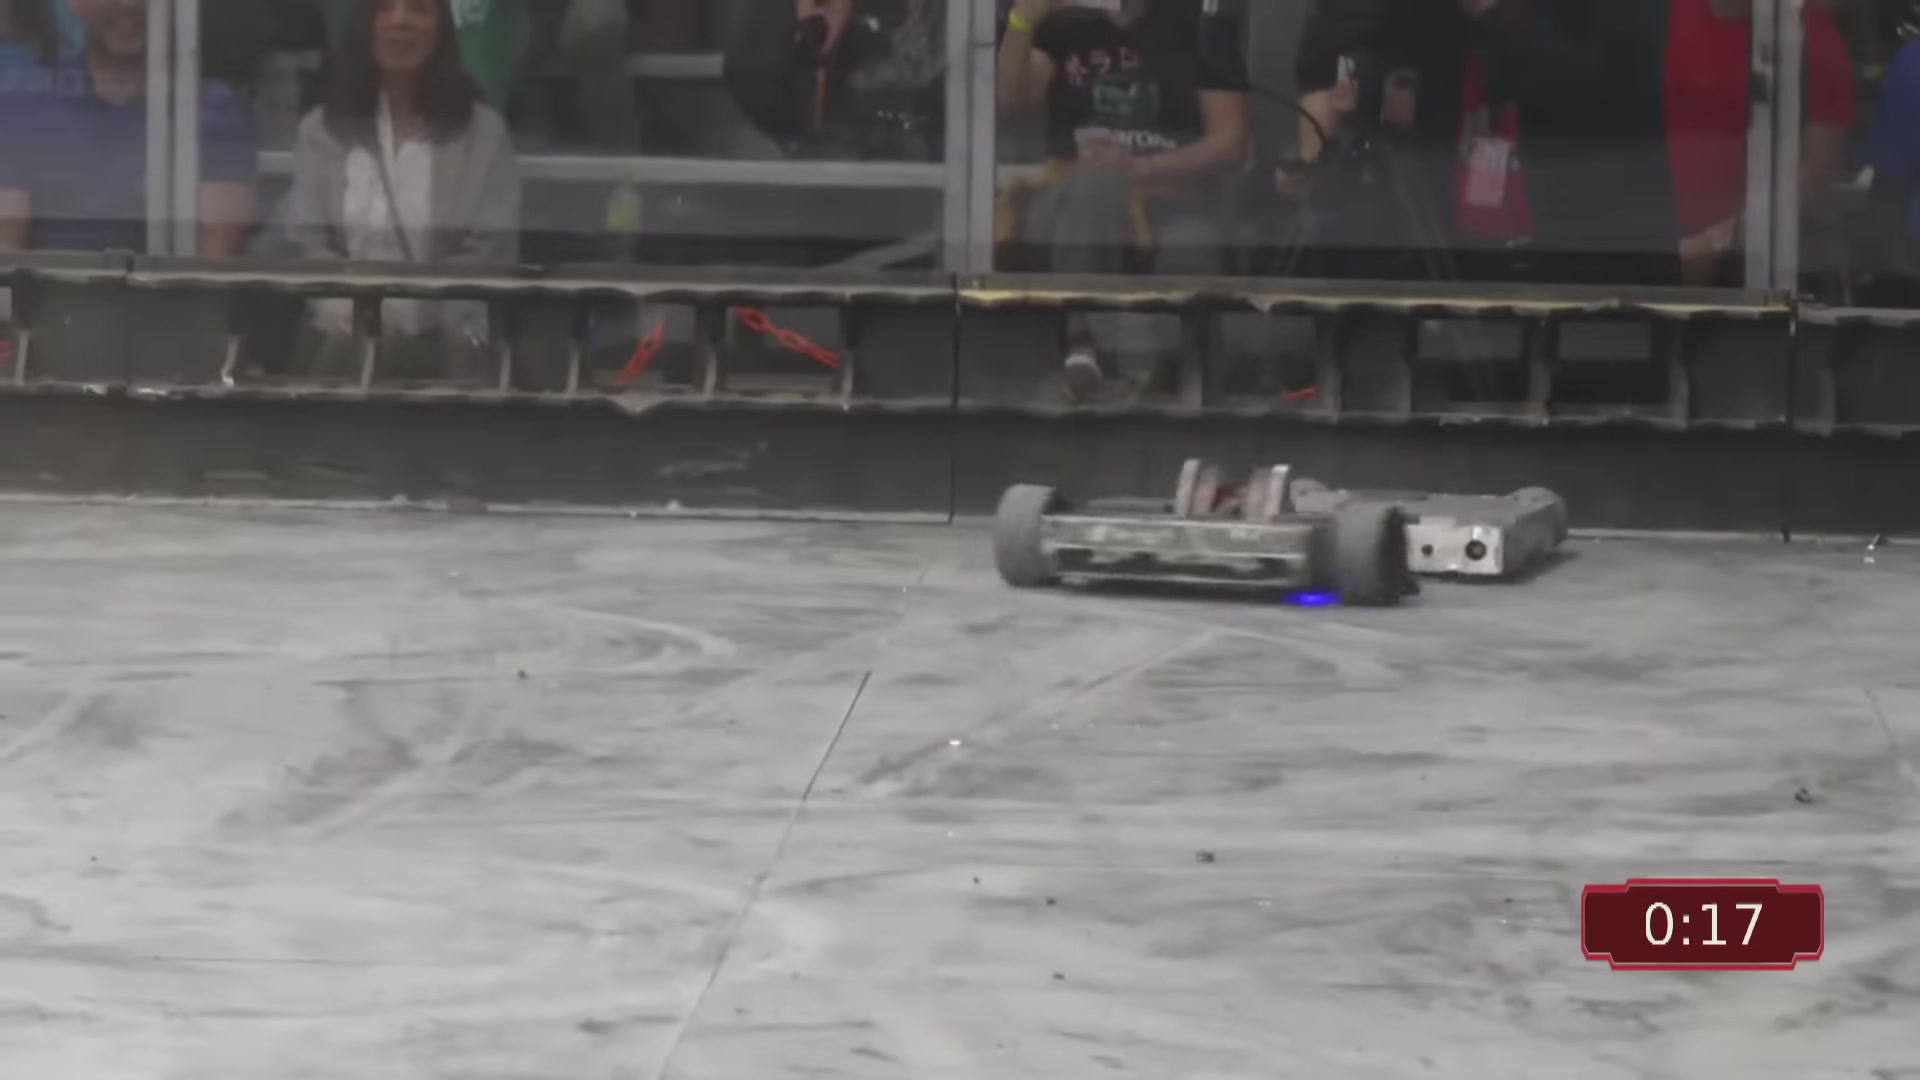combatbot: (997, 460, 1415, 603), (1255, 476, 1569, 585)
